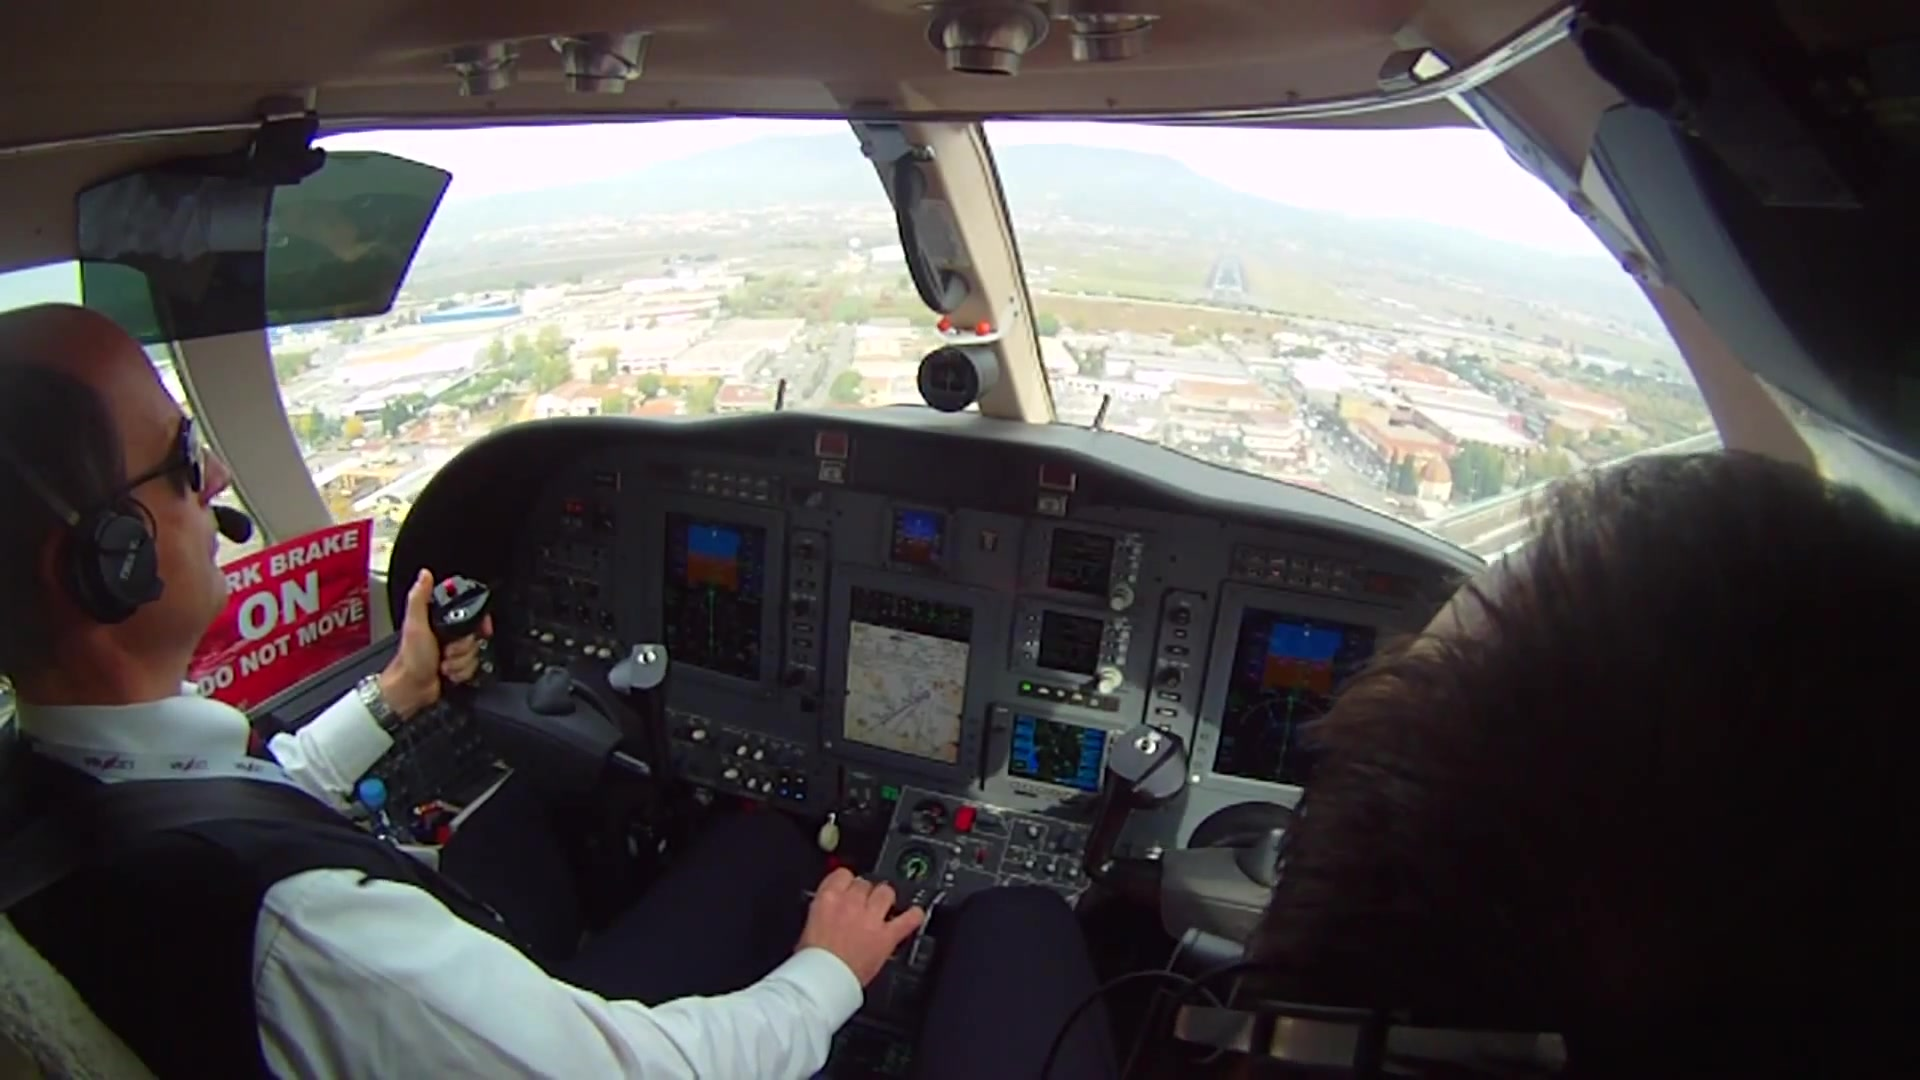runway: (1209, 244, 1245, 298)
